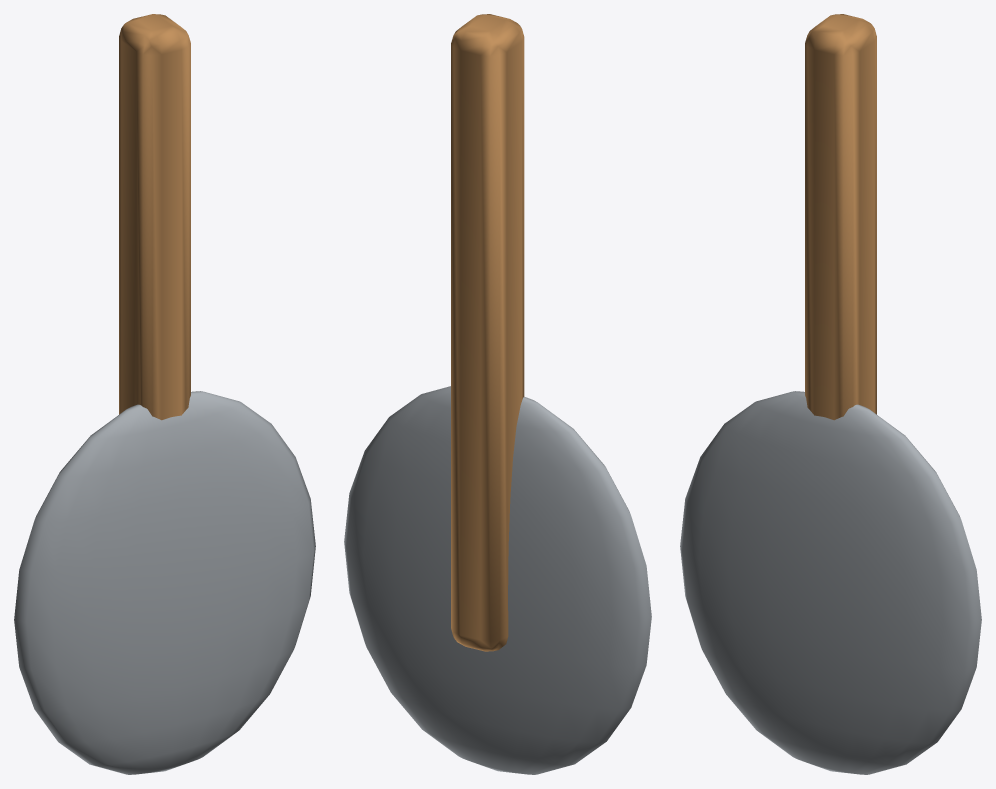
The model's file is clay_shovel.glb.
The picture shows the model from 3 angles, left to right: view 1: azimuth 30°, elevation 25°; view 2: azimuth 150°, elevation 25°; view 3: azimuth 330°, elevation 25°; orthographic projection.
Visible parts, largest first — view 1: clay_shovel; view 2: clay_shovel; view 3: clay_shovel.
Part boxes in pixels (x1,y1,x2,y2): clay_shovel: (14, 14, 315, 774); clay_shovel: (344, 14, 651, 774); clay_shovel: (680, 14, 981, 774).
Size of the model in its own units: 0.26 by 0.61 by 0.065.
